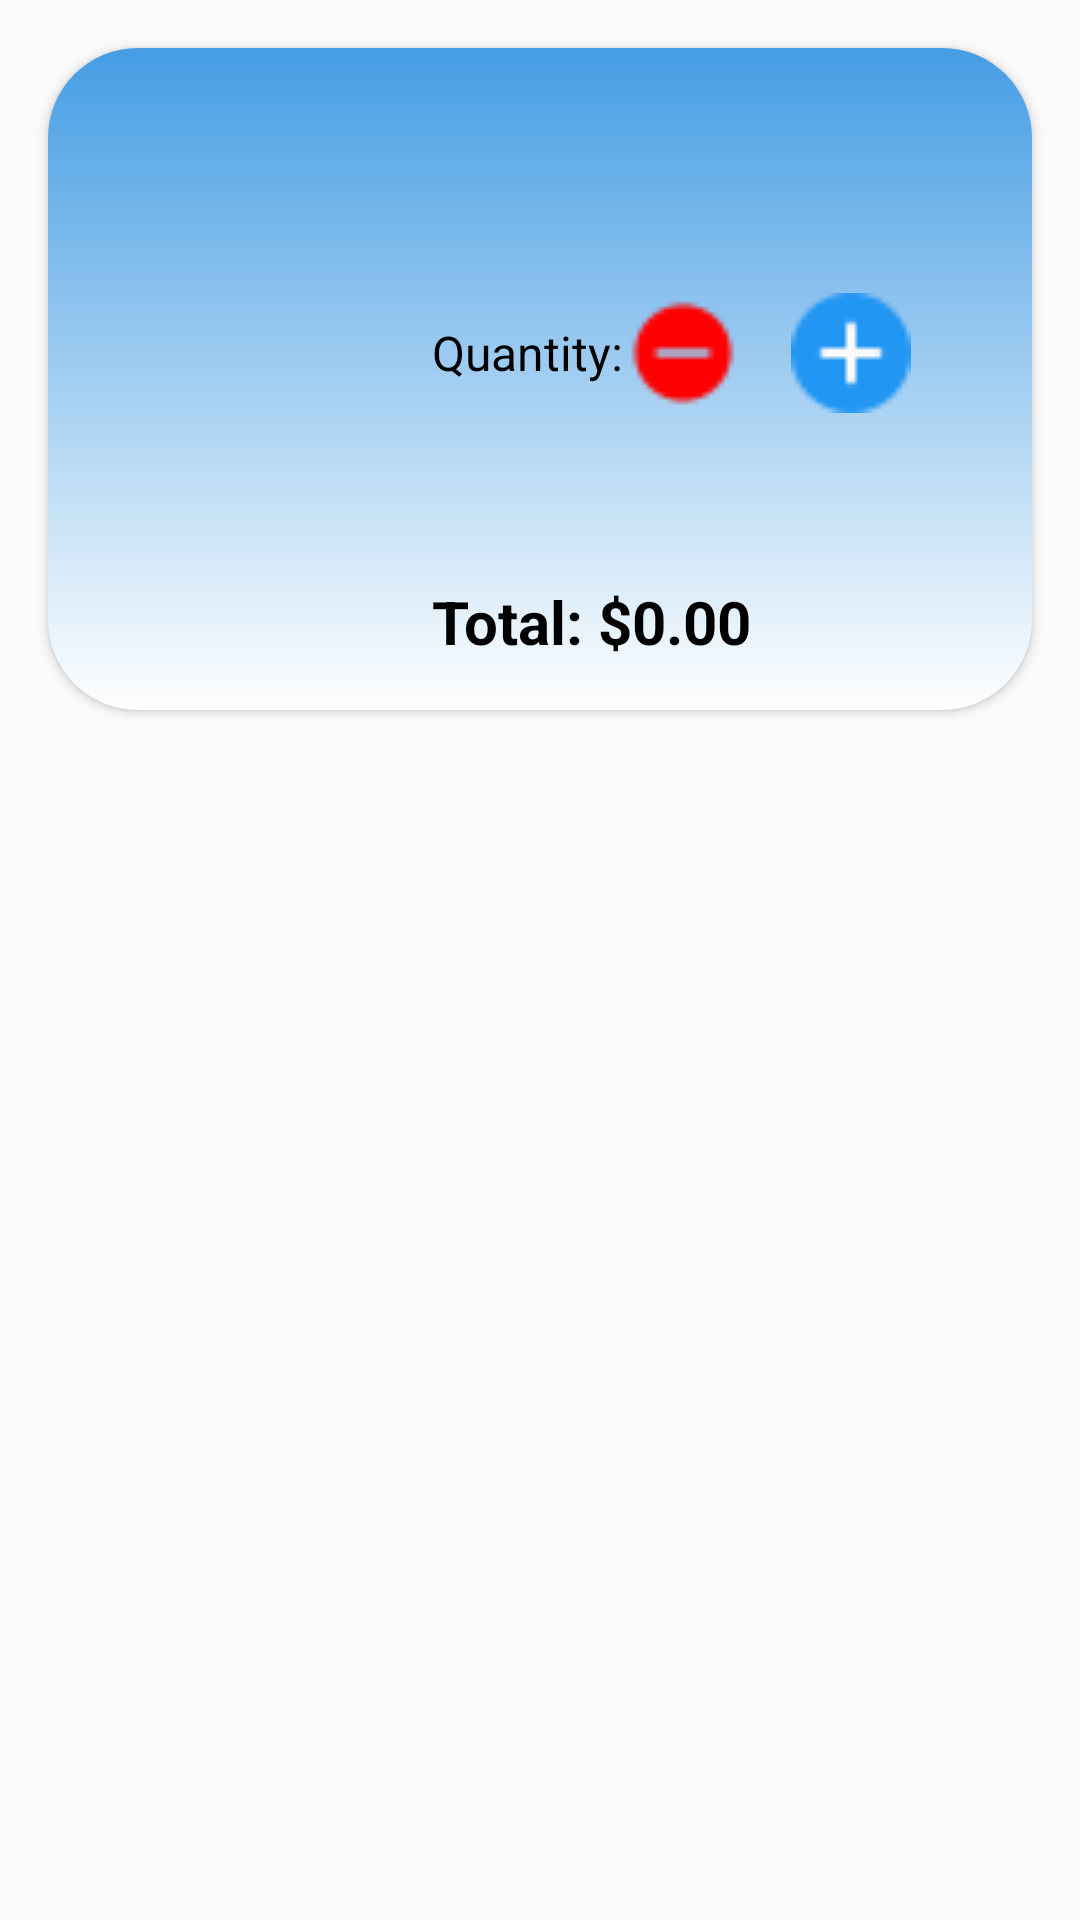

Point at icon controls on the screen. Image size 1080*1920, points as (x=x, y=y).
add: (x=851, y=353)
minus: (x=683, y=353)
